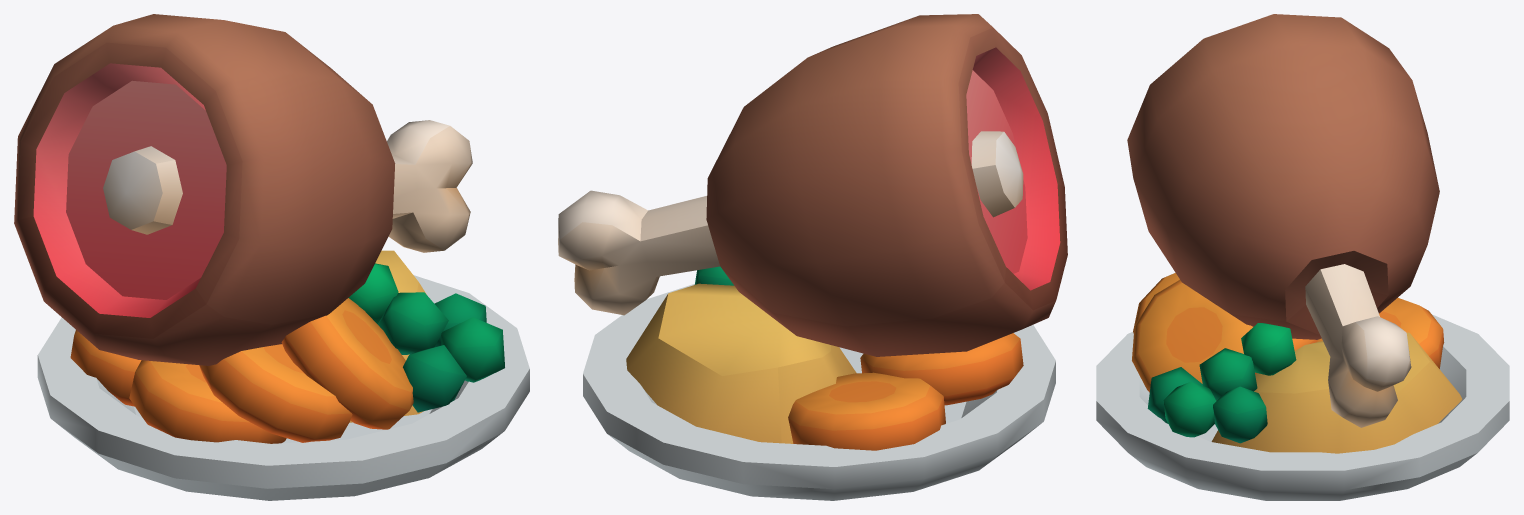
File: Dinner.glb
3 views of the same model, side by side, from view 1: azimuth 30°, elevation 25°; view 2: azimuth 150°, elevation 25°; view 3: azimuth 270°, elevation 25° (orthographic). The views are drawn at different scales.
Parts seen in each view (by area): view 1: food_dinner; view 2: food_dinner; view 3: food_dinner.
Part boxes in pixels (box(x1,y1,x2,y2)): food_dinner: box(14, 14, 529, 500); food_dinner: box(558, 14, 1067, 500); food_dinner: box(1096, 14, 1509, 500).
Size of the model in its own units: 1.04 by 0.9078 by 0.95.
Materials: 1 (1 with a texture image).
